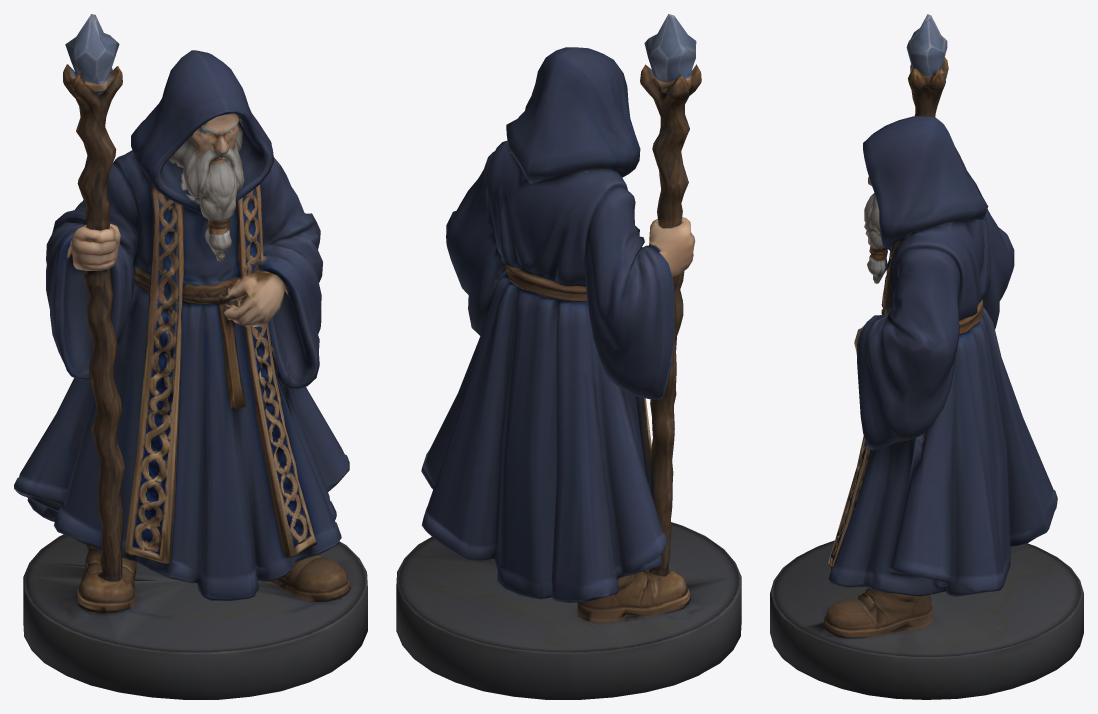
File: merlin-tripo-22cb43f2-retopo-6500.glb
3 renders of one model, left to right at view 1: azimuth 30°, elevation 25°; view 2: azimuth 150°, elevation 25°; view 3: azimuth 270°, elevation 25°, orthographic. The views are drawn at different scales.
Parts seen in each view (by area): view 1: tripo_node_79c8fb8d-b89e-4923-8552-7d1f5efb1992; view 2: tripo_node_79c8fb8d-b89e-4923-8552-7d1f5efb1992; view 3: tripo_node_79c8fb8d-b89e-4923-8552-7d1f5efb1992.
Boxes of the visible parts, bbox=[...] form: tripo_node_79c8fb8d-b89e-4923-8552-7d1f5efb1992: bbox=[14, 14, 367, 699]; tripo_node_79c8fb8d-b89e-4923-8552-7d1f5efb1992: bbox=[396, 14, 741, 699]; tripo_node_79c8fb8d-b89e-4923-8552-7d1f5efb1992: bbox=[770, 14, 1083, 699].
Bounding box in the file's own units: 0.4844 × 0.9783 × 0.4844.
1 material, 1 textured.
